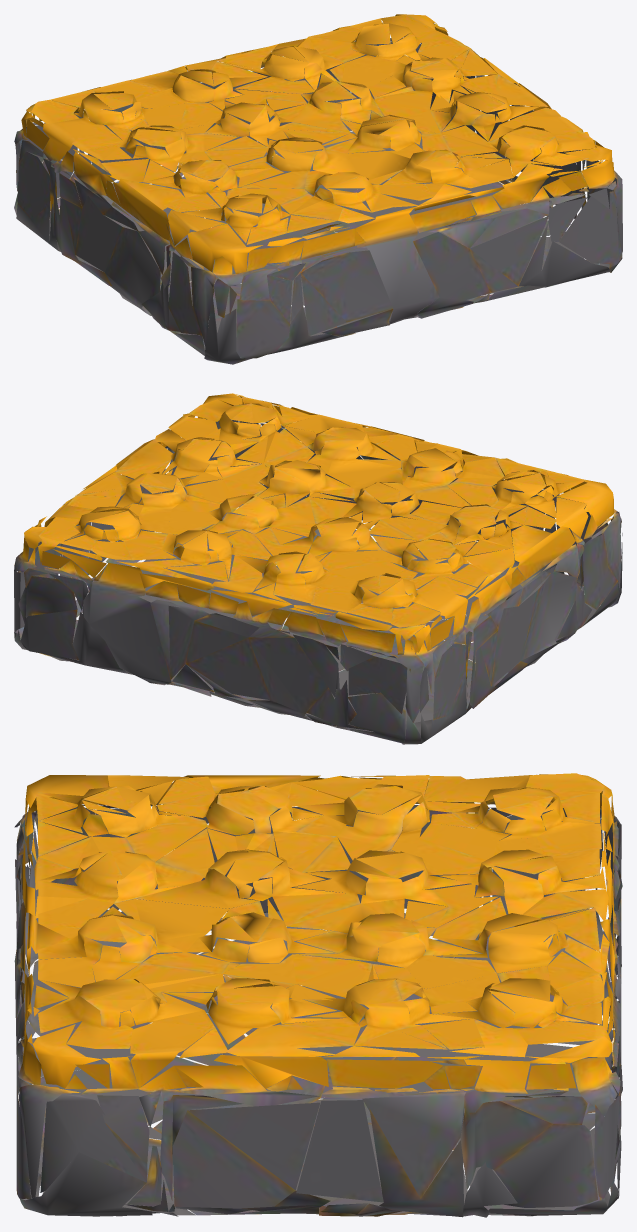
The model's file is tactile.glb.
3 views of the same model, one above another, from view 1: azimuth 30°, elevation 25°; view 2: azimuth 150°, elevation 25°; view 3: azimuth 270°, elevation 25° (orthographic). The views are drawn at different scales.
Parts seen in each view (by area): view 1: Mesh_0; view 2: Mesh_0; view 3: Mesh_0.
Part boxes in pixels (x1,y1,x2,y2): Mesh_0: [14, 14, 622, 364]; Mesh_0: [14, 393, 622, 744]; Mesh_0: [14, 773, 622, 1217].
Size of the model in its own units: 1.93 by 0.5648 by 1.68.
1 material, 1 textured.
